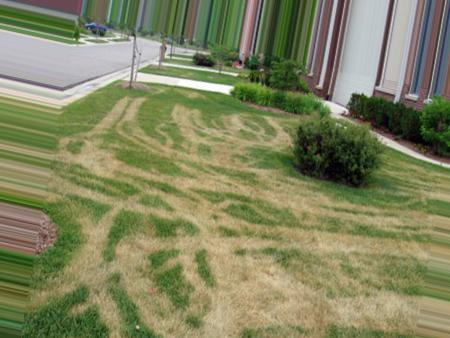patch: (107, 237, 183, 283), (210, 242, 268, 301), (83, 132, 145, 186), (277, 267, 329, 316), (343, 280, 396, 318), (167, 166, 205, 214), (178, 308, 239, 335), (303, 232, 364, 251), (281, 181, 313, 213), (372, 232, 406, 259), (175, 114, 204, 139)
